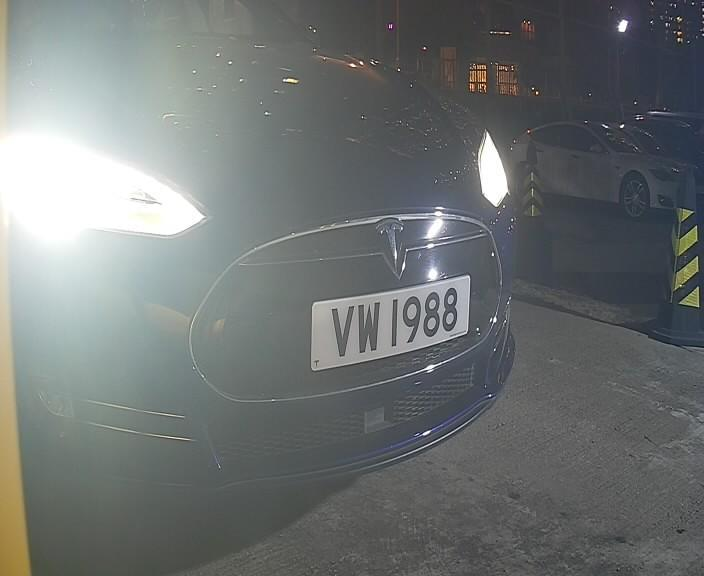License Plate: (295, 268, 475, 380)
